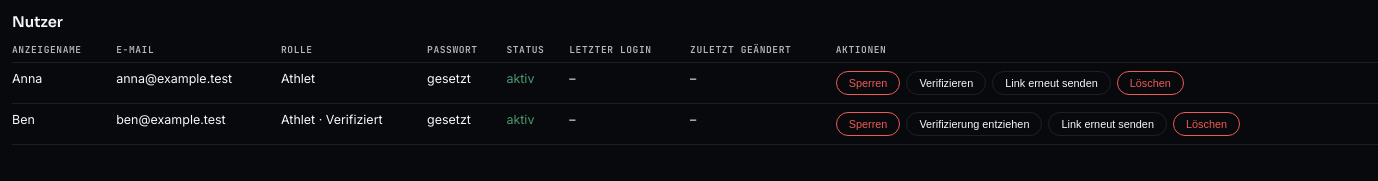
AdminUsersTable — Verifizierte Autoren › zeigt einen Serverfehler an der Zeile und lässt den Stand unverändert
Expected: the text "Anna" is shown, [12, 62, 116, 103]
Click the button with aria-label "Anna verifizieren" at point(946, 83), box [906, 71, 986, 95]
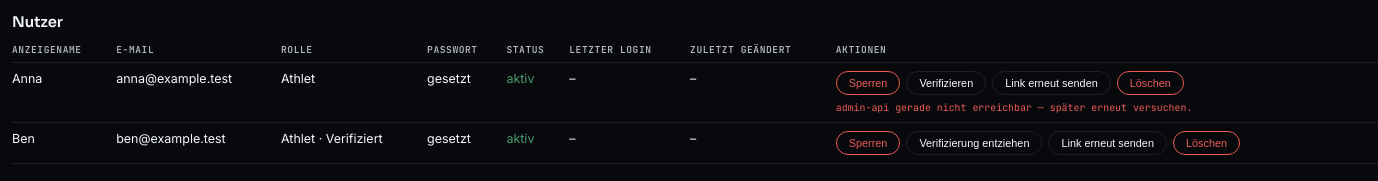
Now the text "admin-api gerade nicht erreichbar — später erneut versuchen." is shown, box [836, 101, 1192, 114]
